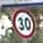limite 30: (12, 6, 36, 39)
